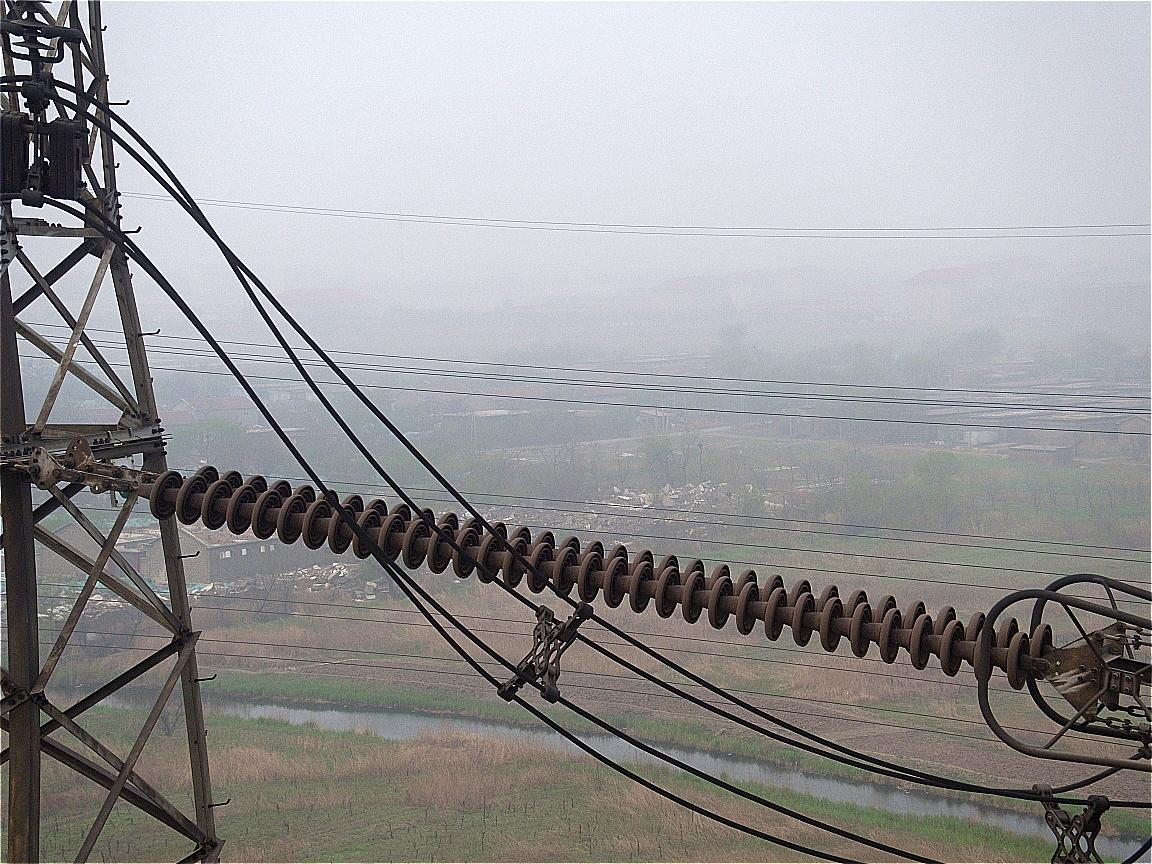insultor1: (150, 464, 1057, 689)
